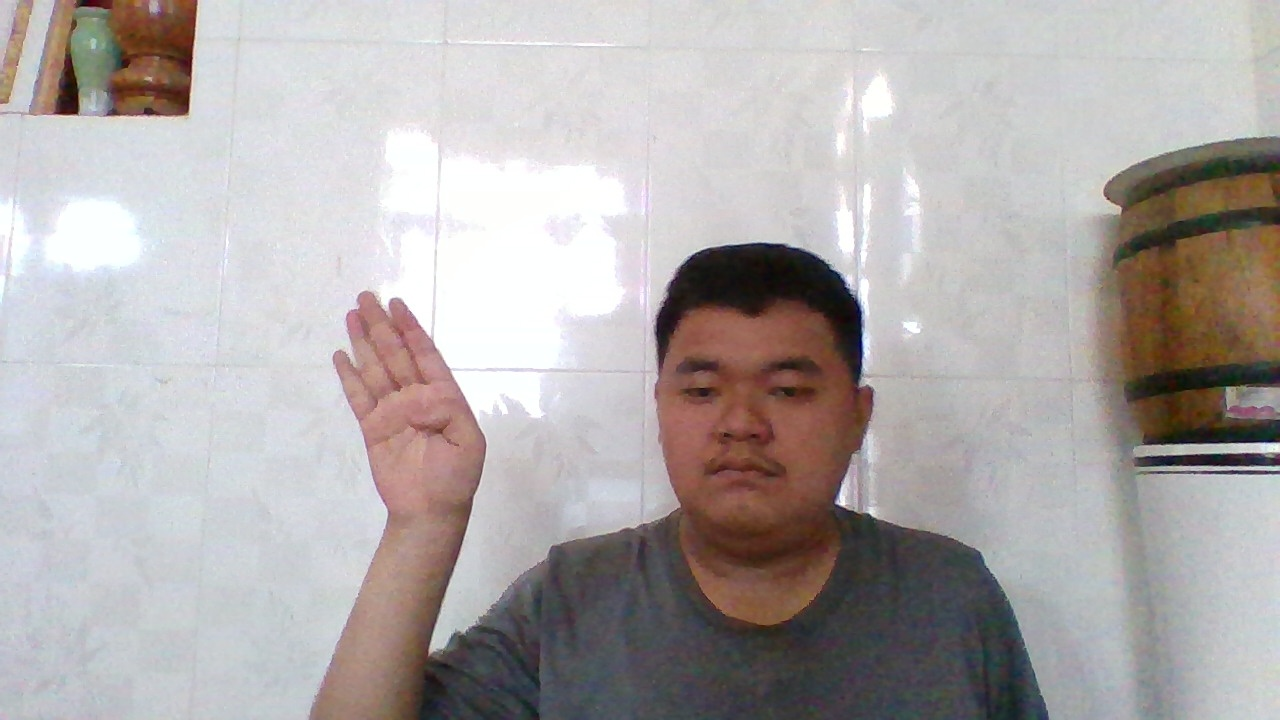B: (320, 284, 492, 536)
